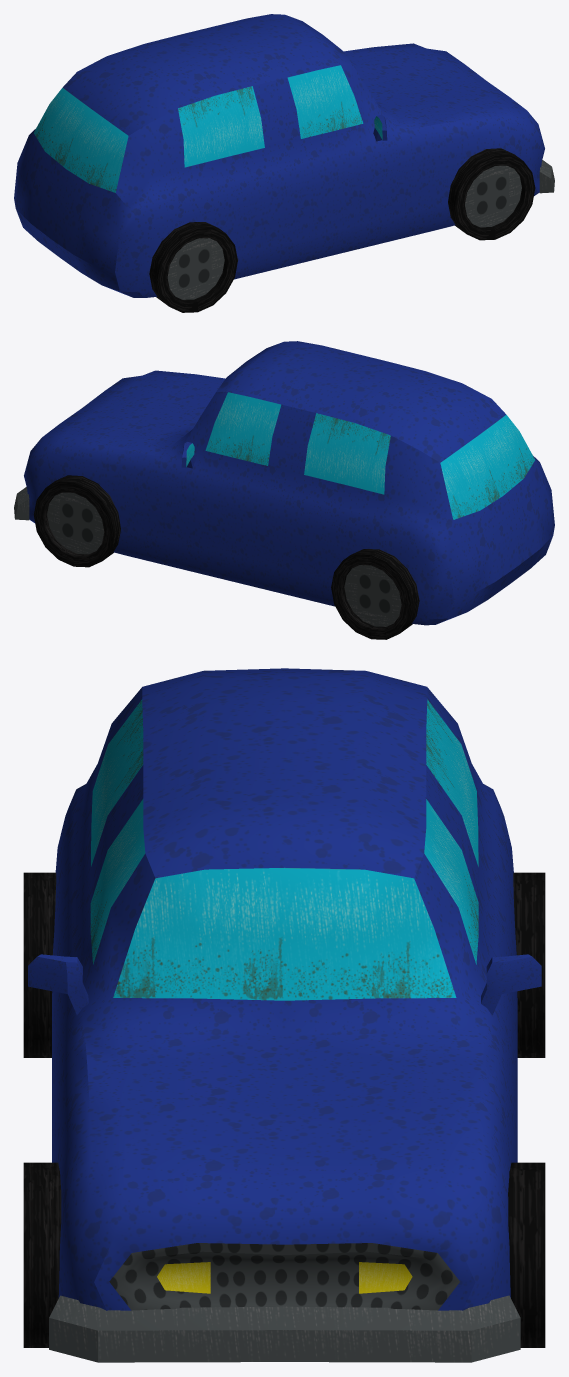
Rendered from Renault4L_2.fbx.
3 views of the same model, one above another, from view 1: azimuth 30°, elevation 25°; view 2: azimuth 150°, elevation 25°; view 3: azimuth 270°, elevation 25° (orthographic). The views are drawn at different scales.
Visible parts, largest first — view 1: Renault4L_2; view 2: Renault4L_2; view 3: Renault4L_2.
Boxes of the visible parts, x1,y1,x2,y2 form: Renault4L_2: (14,14,554,312); Renault4L_2: (14,341,554,639); Renault4L_2: (23,668,545,1362).
Size of the model in its own units: 430 by 177 by 212.
